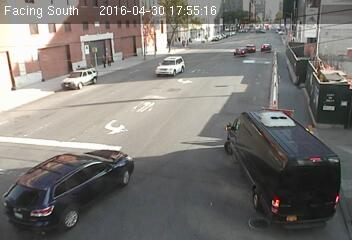neg: (212, 107, 224, 123), (153, 73, 163, 86), (201, 65, 211, 77), (267, 23, 276, 34)
pos: (102, 54, 112, 68), (98, 56, 108, 68)
